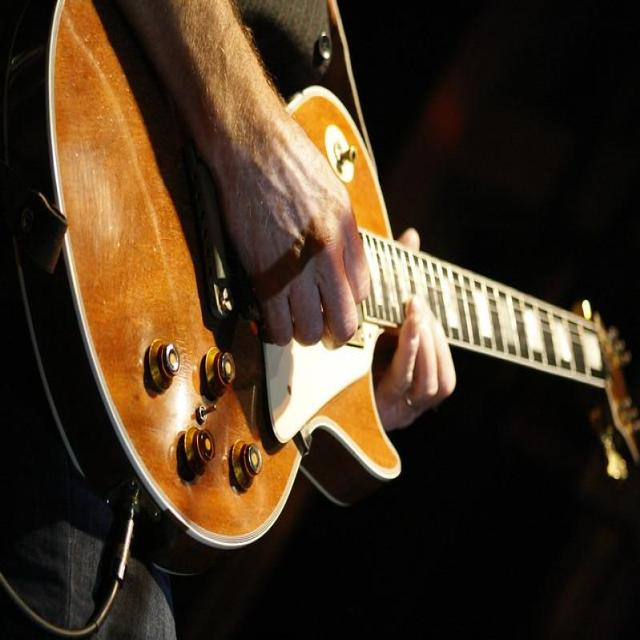guitar: (21, 0, 615, 567)
